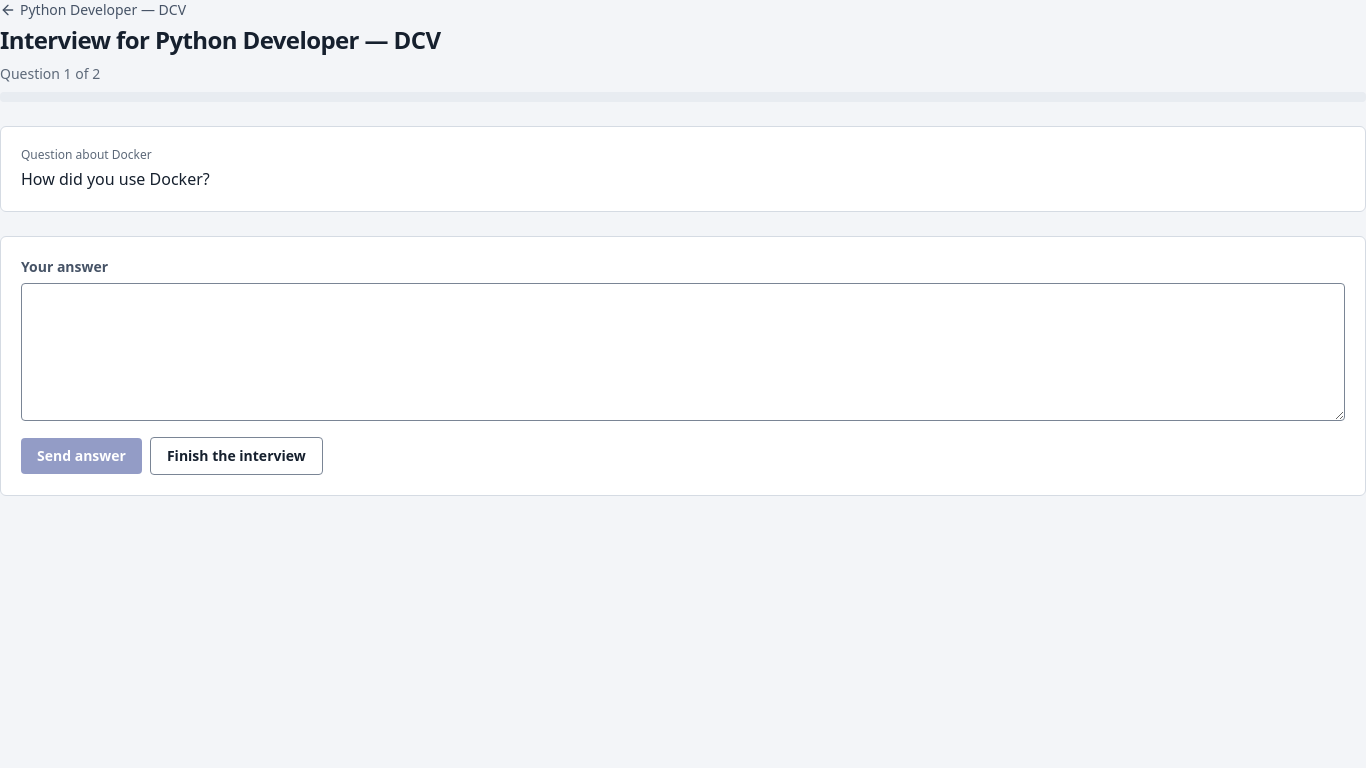
an answer comes back judged, with the reasons and the next question
Type "I containerised our API." into the text box labelled "Your answer".
click(683, 352); type("I containerised our API.")  # box [21,283,1345,421]
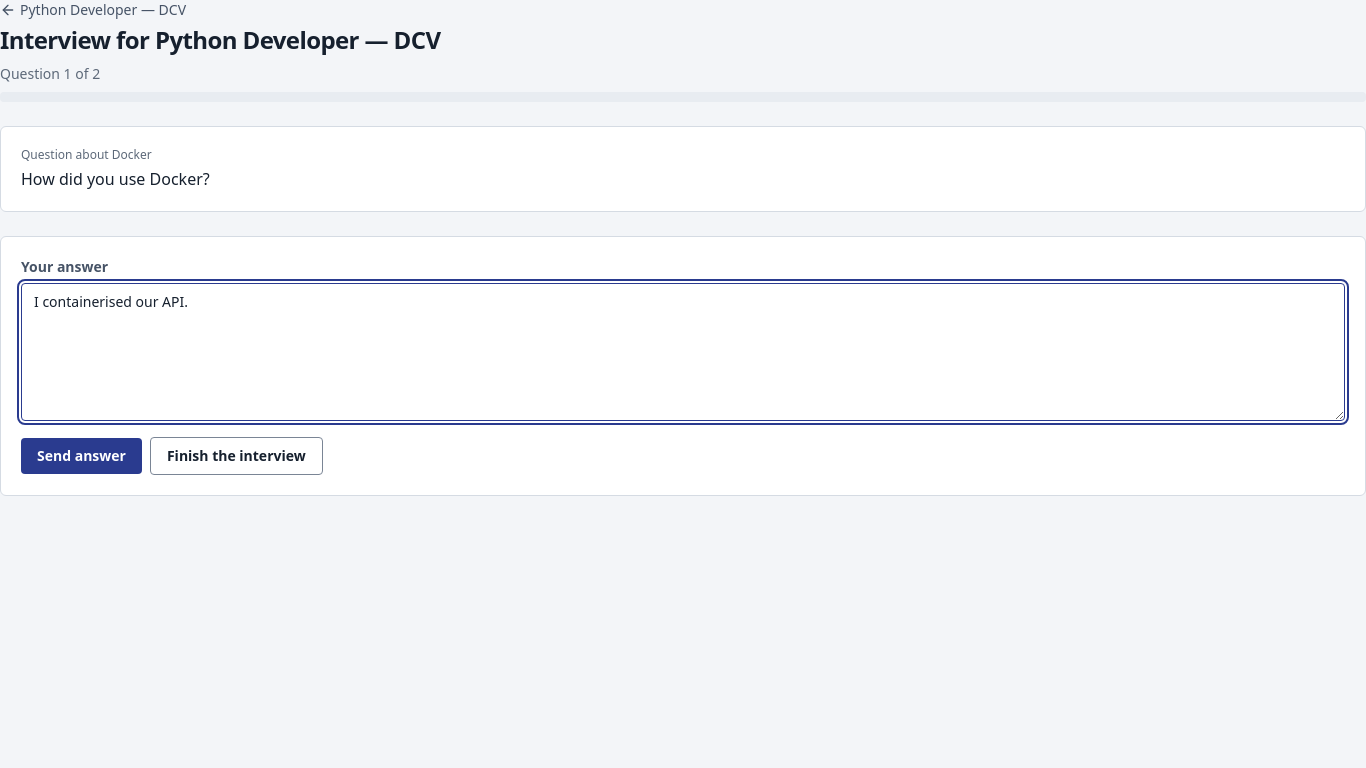
Click the button "Send answer".
click(81, 456)  # box [21,438,142,474]
(page scrolled)
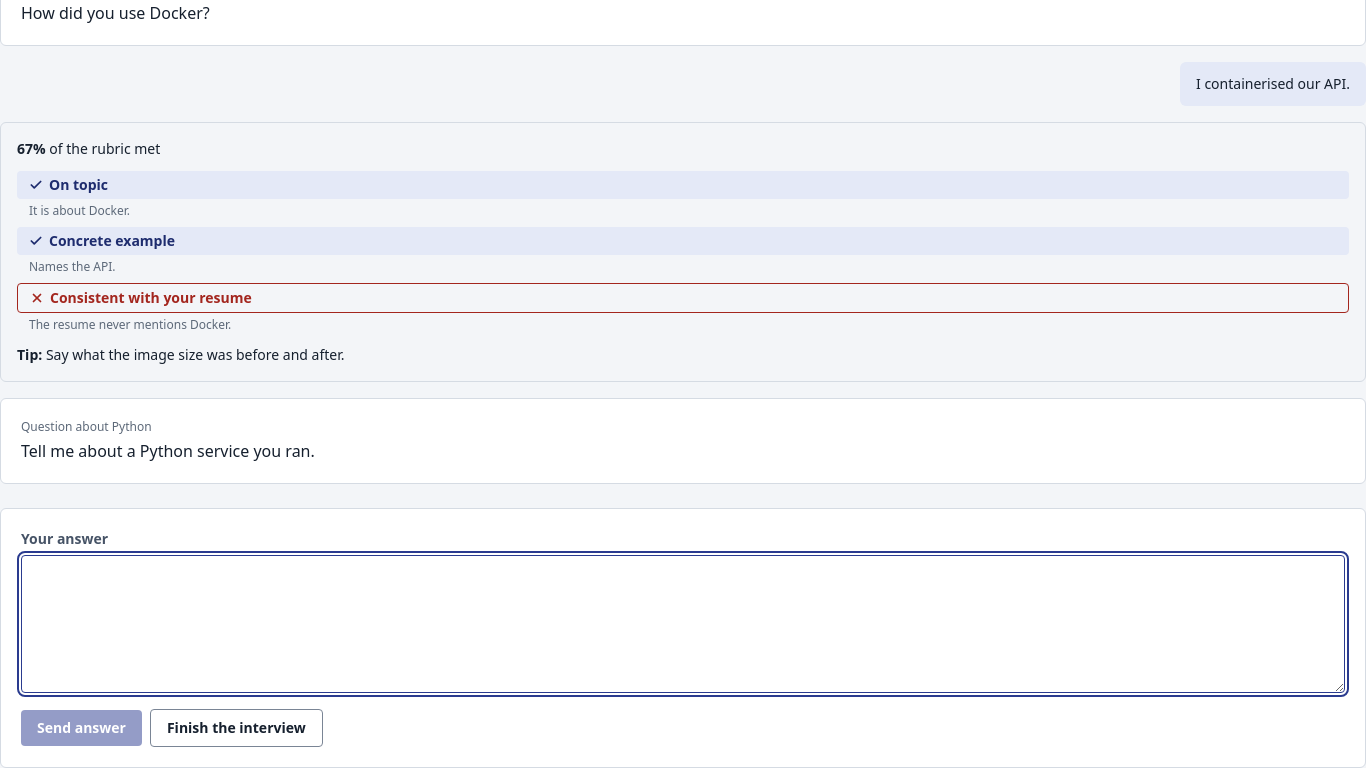
Result: the text "67%" is shown at [17,139,46,158]
Result: the text "The resume never mentions Docker." is shown at [29,316,231,333]
Result: the text "Tip: Say what the image size was before and after." is shown at [17,345,344,364]
